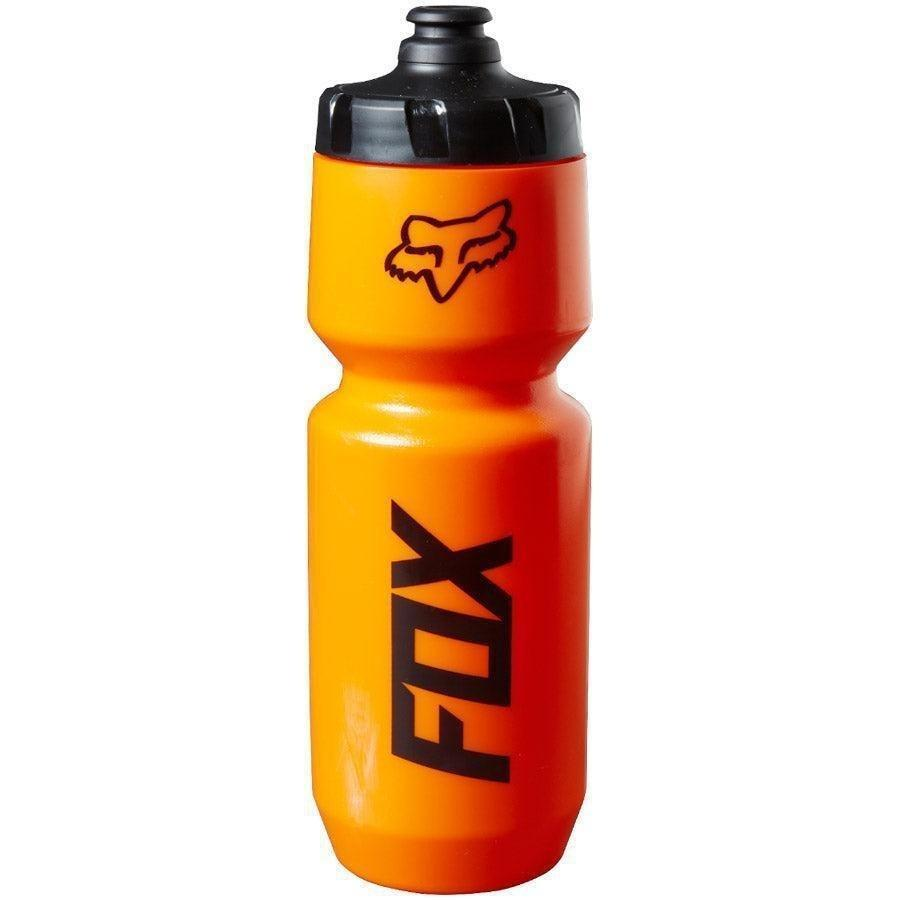gym bottle: (299, 0, 601, 899)
